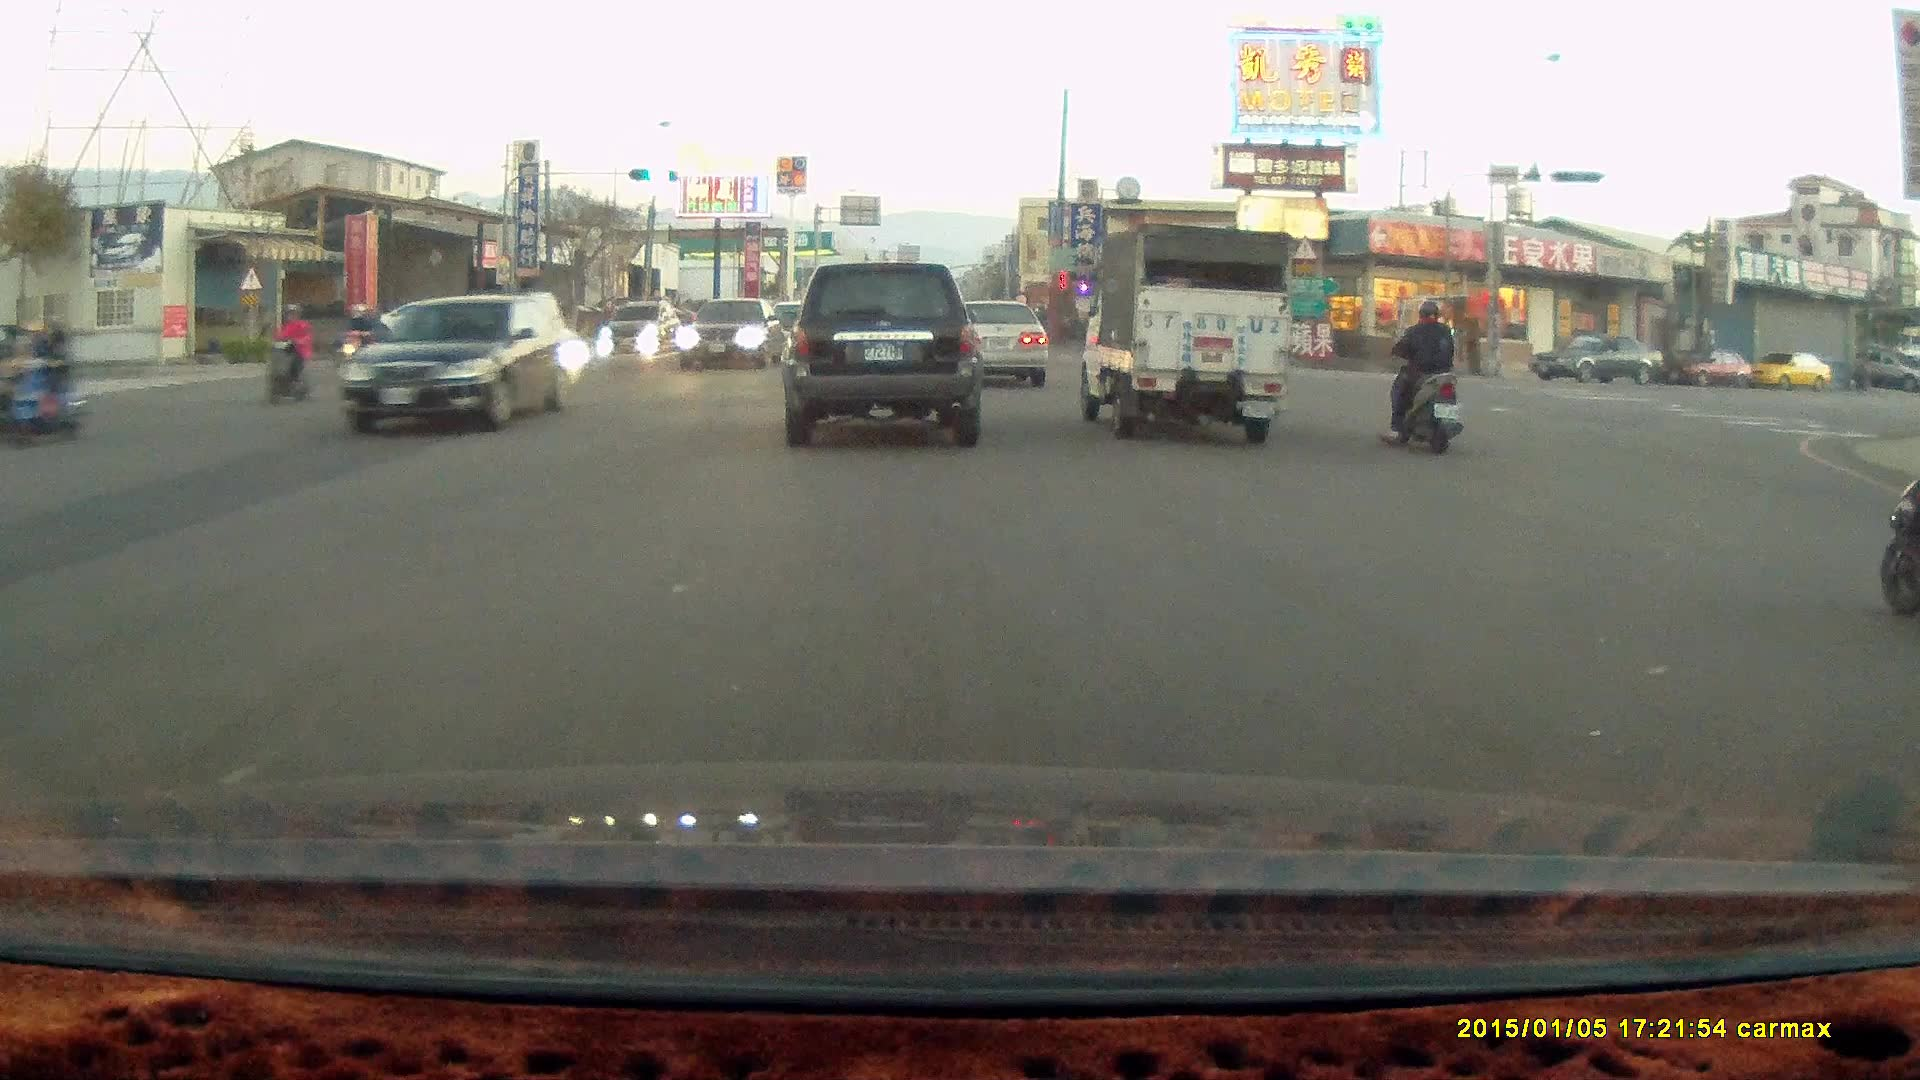rider: (1382, 296, 1463, 454), (3, 319, 94, 439), (1874, 457, 1920, 614), (263, 303, 319, 402), (335, 299, 383, 385)
vehicle: (1069, 219, 1293, 442), (779, 258, 983, 448), (334, 290, 582, 439), (934, 294, 1049, 388), (952, 299, 1051, 390), (677, 296, 788, 371), (1530, 331, 1669, 386), (375, 295, 478, 341), (602, 297, 677, 354), (1667, 346, 1756, 389), (1746, 352, 1835, 391)
